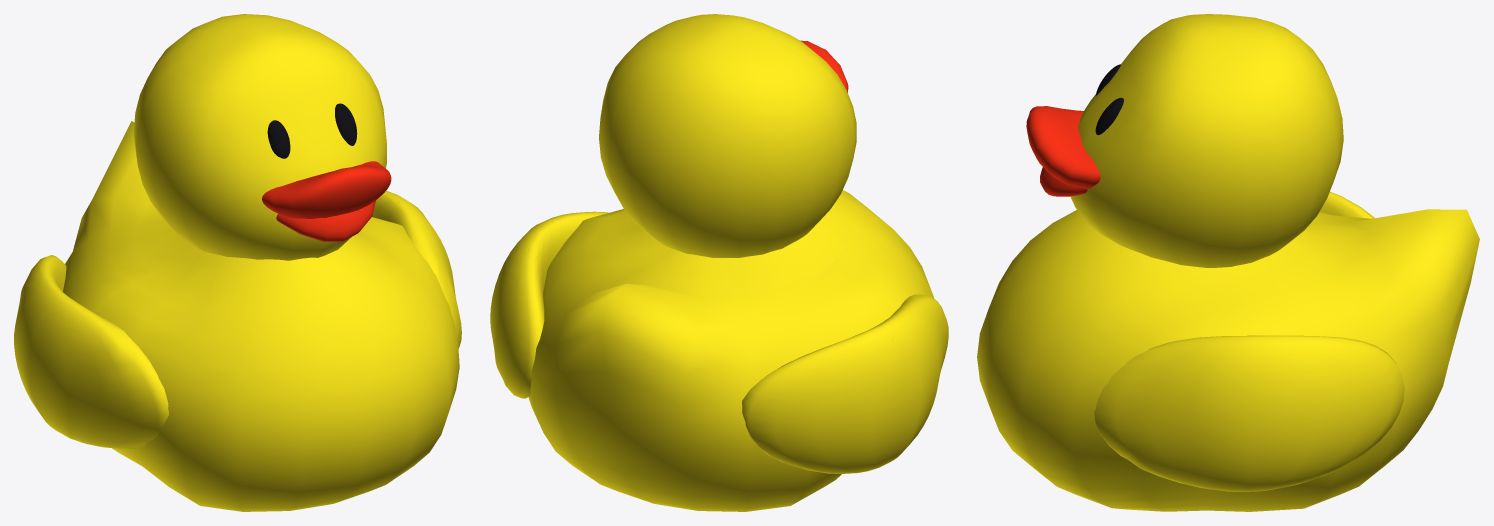
Rendered from duck_anim1.glb.
3 renders of one model, left to right at view 1: azimuth 30°, elevation 25°; view 2: azimuth 150°, elevation 25°; view 3: azimuth 270°, elevation 25°, orthographic. The views are drawn at different scales.
Parts seen in each view (by area): view 1: Duck_Normal_Combined; view 2: Duck_Normal_Combined; view 3: Duck_Normal_Combined.
Boxes of the visible parts, x1=… form: Duck_Normal_Combined: x1=14, y1=14, x2=461, y2=511; Duck_Normal_Combined: x1=490, y1=14, x2=948, y2=511; Duck_Normal_Combined: x1=977, y1=14, x2=1479, y2=511.
Bounding box in the file's own units: 0.0598 × 0.0604 × 0.0612.
1 material, 1 textured.
